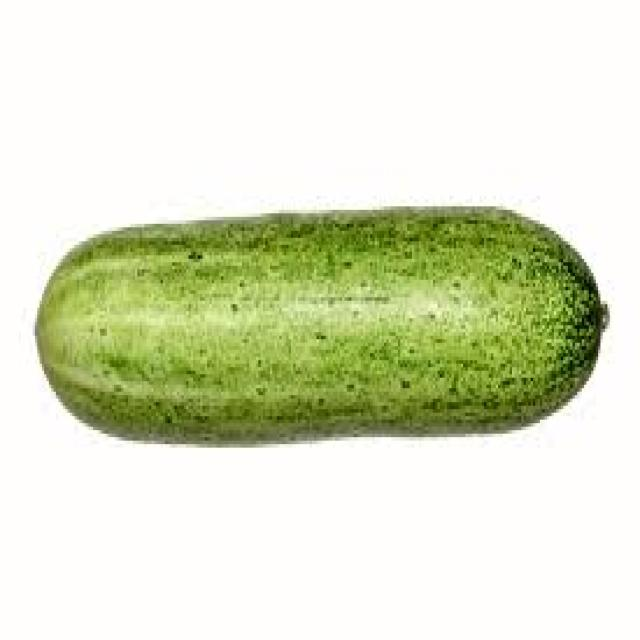cucumber: (36, 203, 602, 445)
